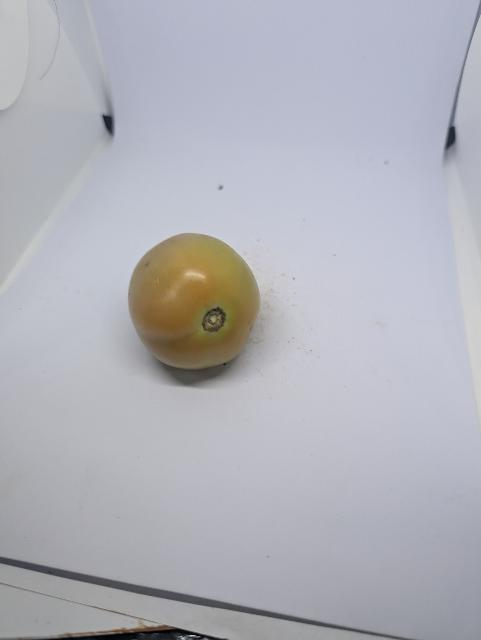turning: (129, 233, 260, 369)
